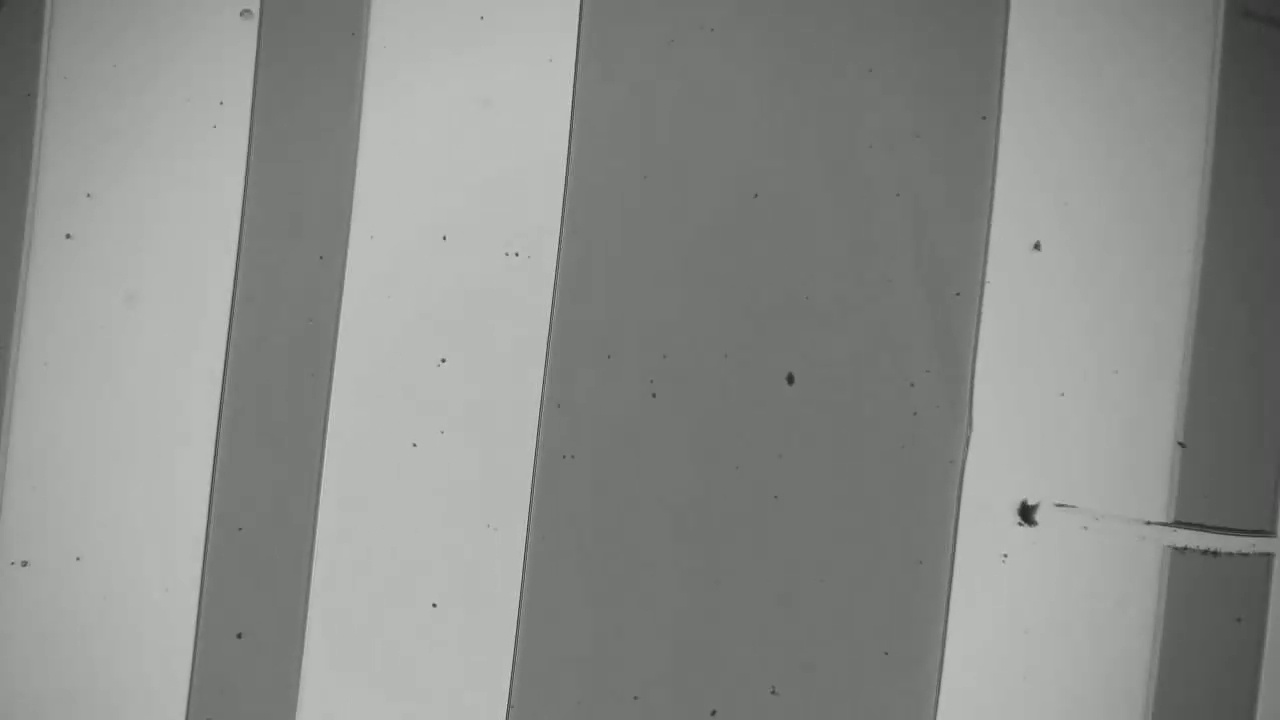Short_circuit: (1102, 503, 1279, 567)
